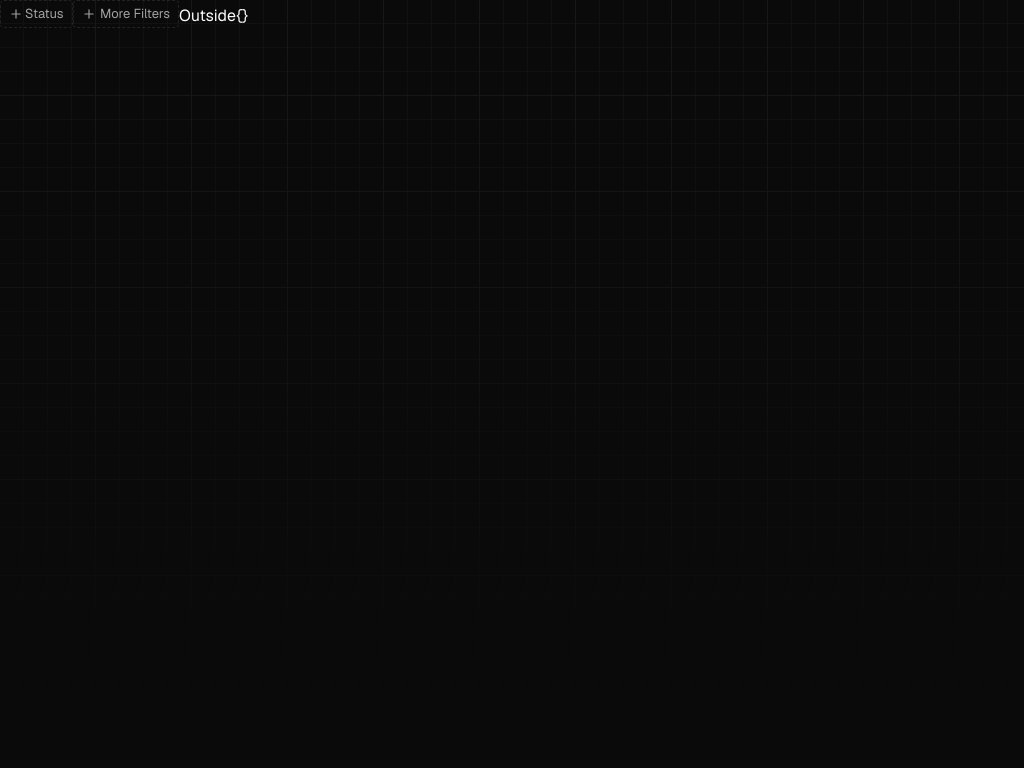
More Filters menu (SPEC §7) › opens the editor as a panel next to the list when an item is chosen
Click the button "More Filters" at (126, 14), box [73,0,179,28]
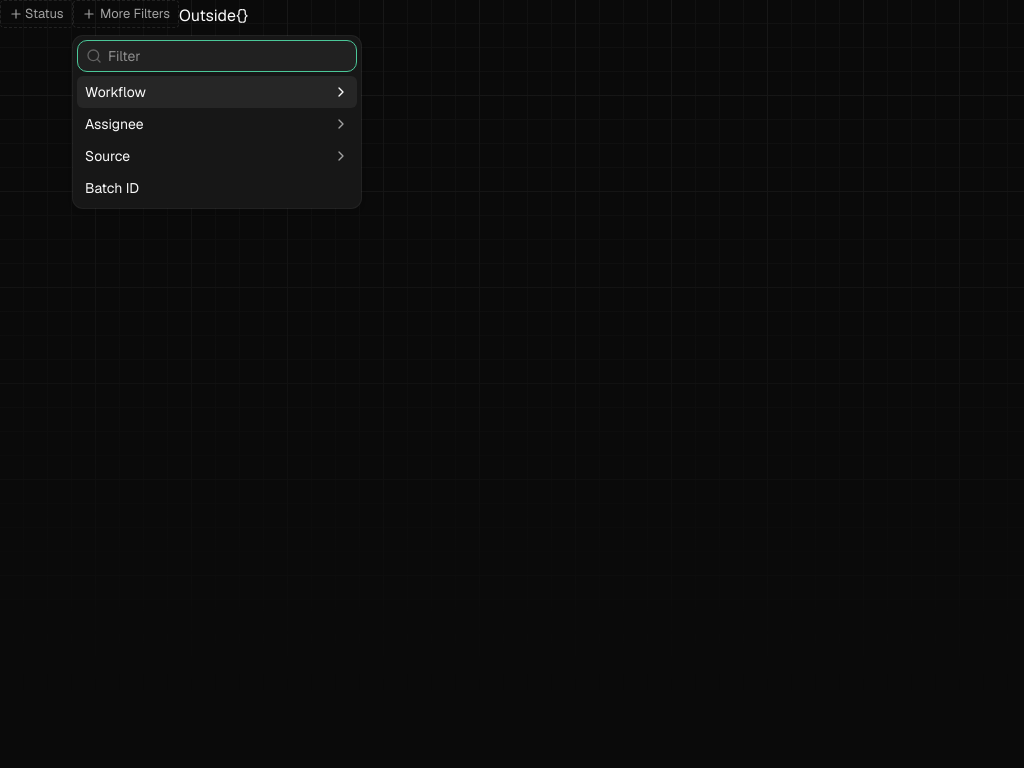
Click the option "Assignee" at (114, 124), box [85,115,349,133]
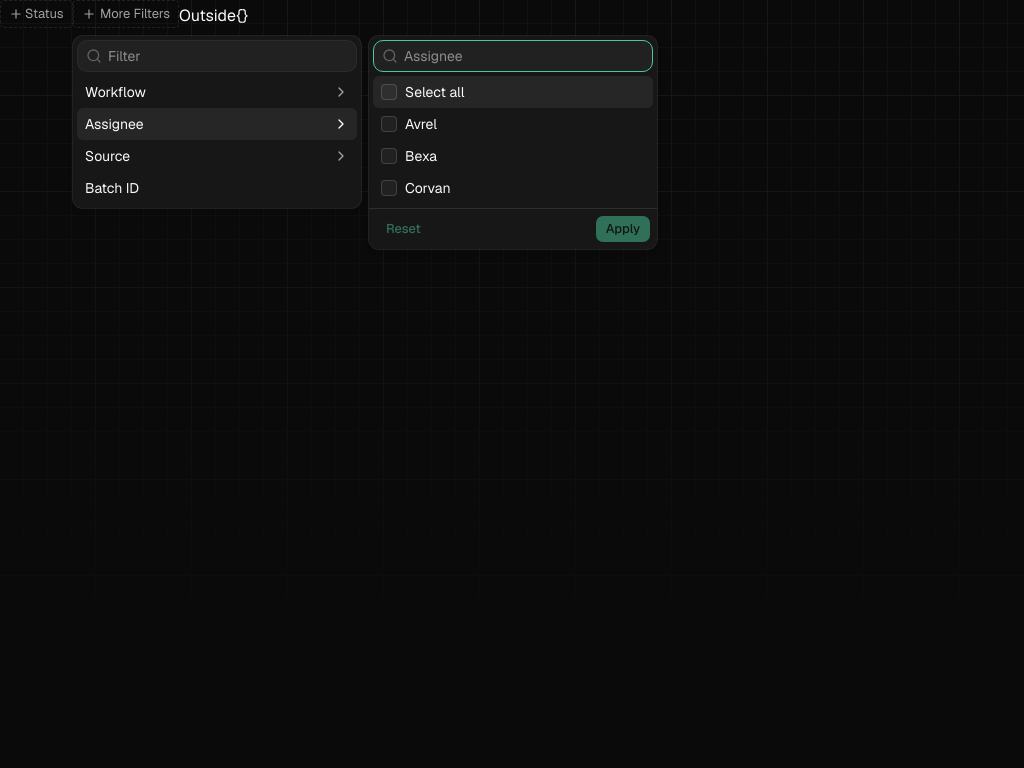
Expected: the element named "Assignee filter" is shown, [369,36,657,249]
Expected: the option "Bexa" is shown, [381,147,437,165]
